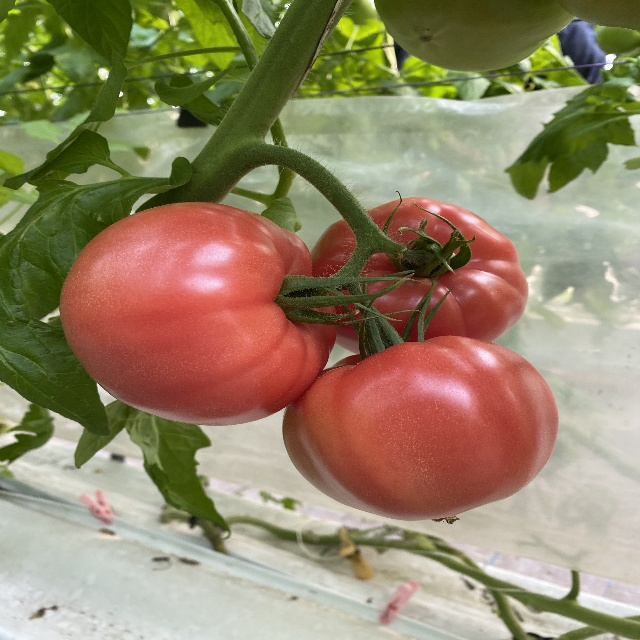b_fully_ripened: (60, 202, 338, 427), (283, 335, 558, 523), (309, 196, 529, 354)
b_green: (374, 0, 575, 72)
